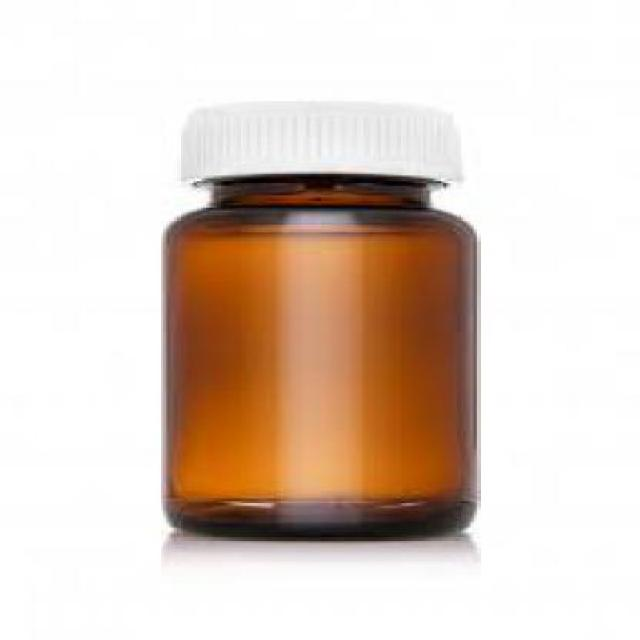kaca: (160, 178, 477, 536)
